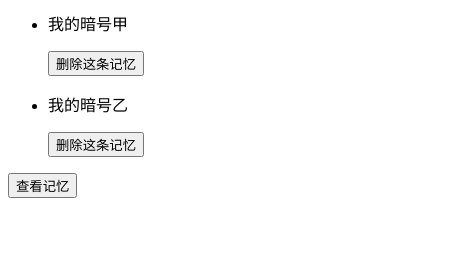
Test: keeps the choices and shows an actionable error without a false success on failure
Step 1. Click the button "删除这条记忆" below "我的暗号甲" → (96, 64), box left=48, top=51, right=144, bottom=76
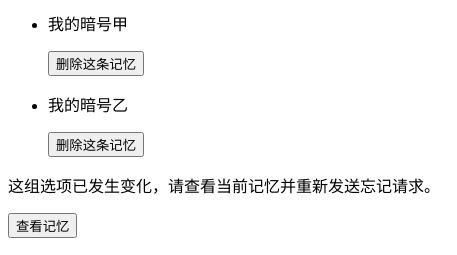
Expected: the number of list items is 2, left=48, top=16, right=144, bottom=76; left=48, top=97, right=144, bottom=157
Expected: the message shows "请查看当前记忆并重新发送忘记请求", left=8, top=178, right=440, bottom=195
